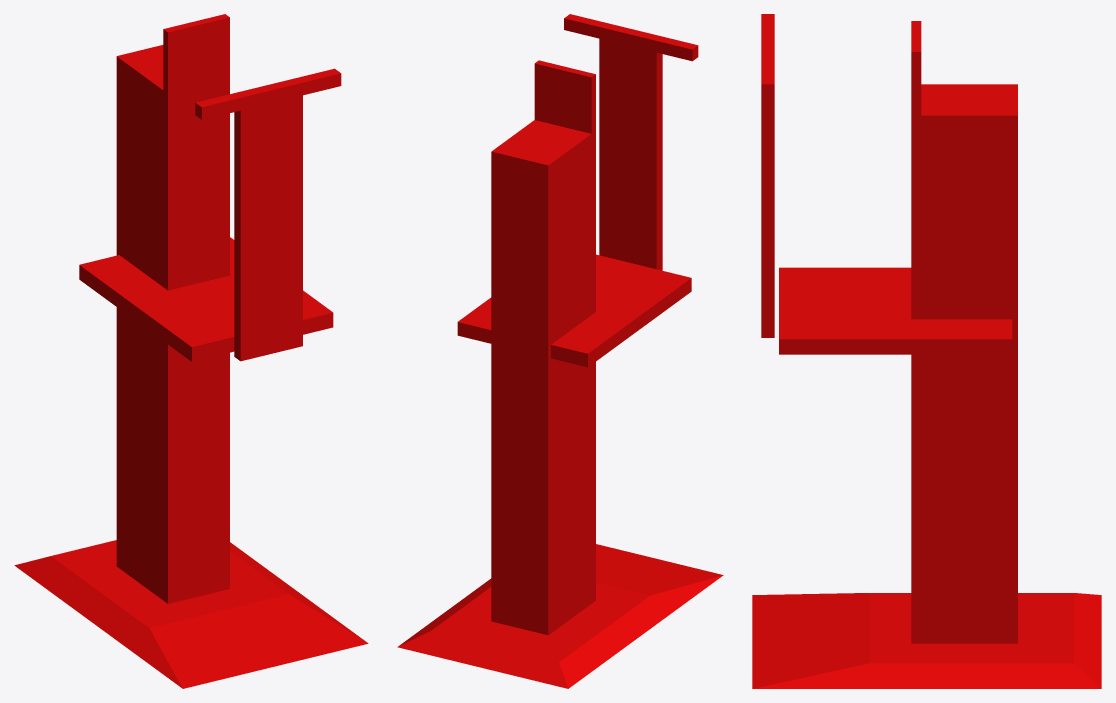
File: UmpireBoxCollider.fbx
3 views of the same model, side by side, from view 1: azimuth 30°, elevation 25°; view 2: azimuth 150°, elevation 25°; view 3: azimuth 270°, elevation 25° (orthographic). The views are drawn at different scales.
Visible parts, largest first — view 1: UmpireBoxCollision; view 2: UmpireBoxCollision; view 3: UmpireBoxCollision.
Boxes of the visible parts, x1=… form: UmpireBoxCollision: x1=14, y1=14, x2=368, y2=688; UmpireBoxCollision: x1=397, y1=14, x2=723, y2=688; UmpireBoxCollision: x1=752, y1=14, x2=1101, y2=688.
Bounding box in the file's own units: 71.65 × 215 × 113.
